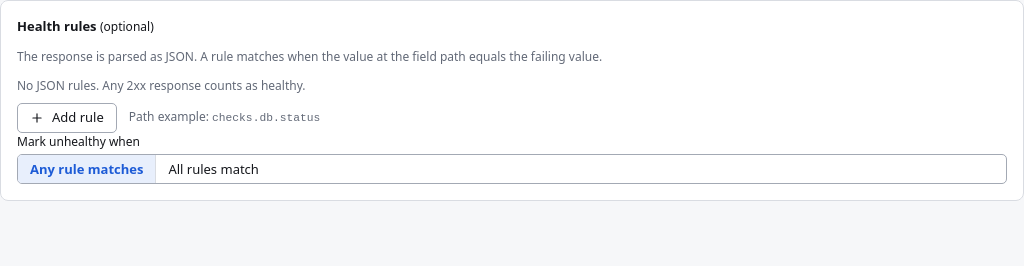
Test: HealthRulesGroup › choosing true replaces the text input and keeps the path and the kind; choosing Text again shows what was typed
Click the button "Add rule" at {"x": 67, "y": 118}, box [17,103,117,133]
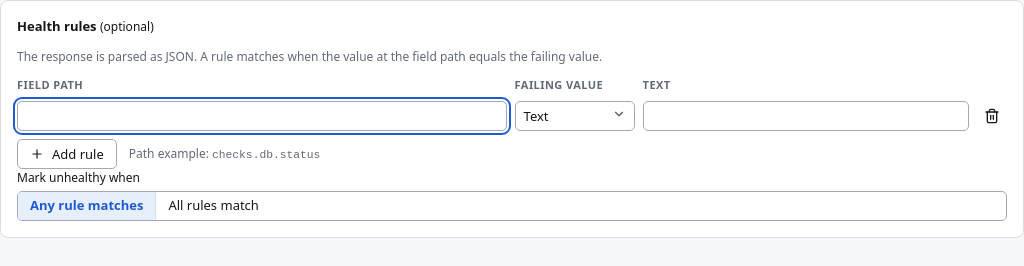
Type "a.b" into the field named "Rule 1 field path" at {"x": 262, "y": 116}, box [17,101,507,131]
Type "abc" into the field named "Rule 1 failing text" at {"x": 806, "y": 116}, box [643,101,969,131]
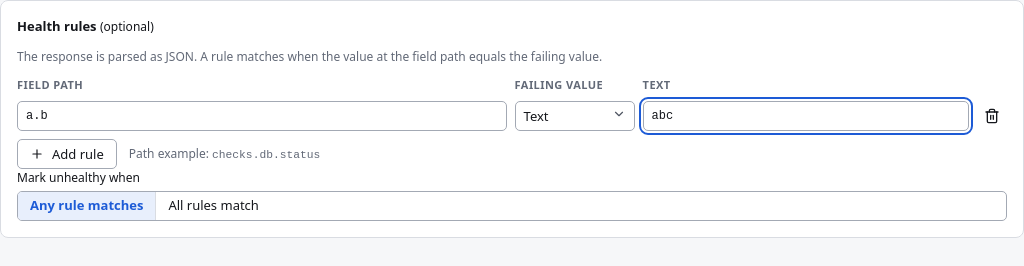
Click the dropdown labelled "Text" at {"x": 575, "y": 116}, box [515,101,635,131]
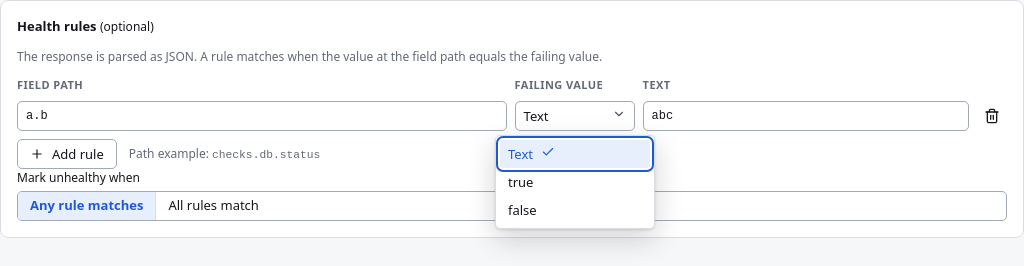
Click the option "true" at {"x": 521, "y": 182}, box [508,173,533,191]
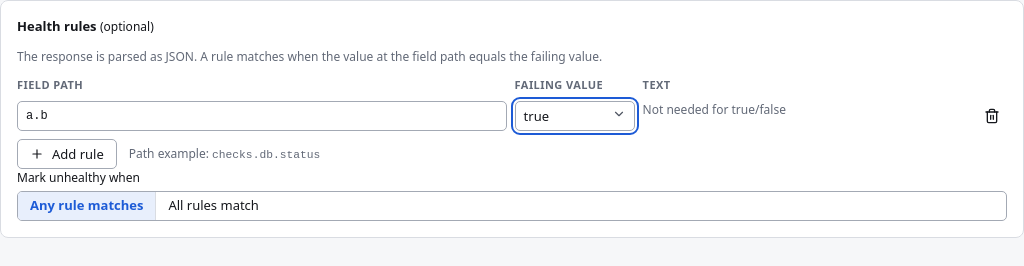
Expected: the text "Not needed for true/false" is shown, [643,101,786,118]
Click the dropdown labelled "true" at {"x": 575, "y": 116}, box [515,101,635,131]
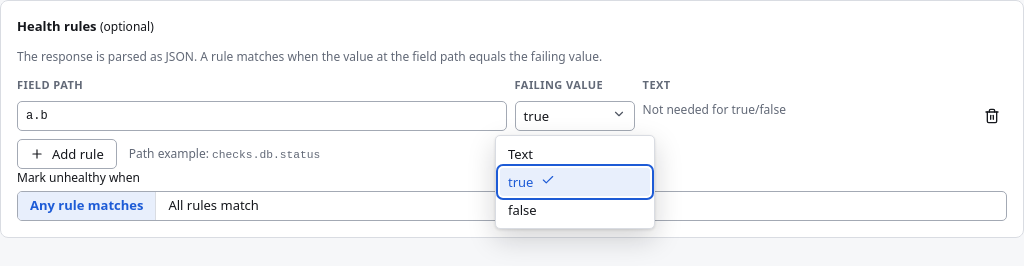
Click the option "Text" at {"x": 520, "y": 154}, box [508,145,533,163]
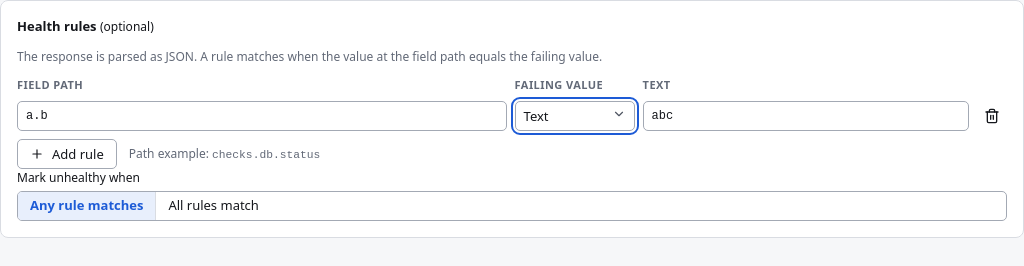
Expected: the field named "Rule 1 failing text" holds "abc", [643,101,969,131]
